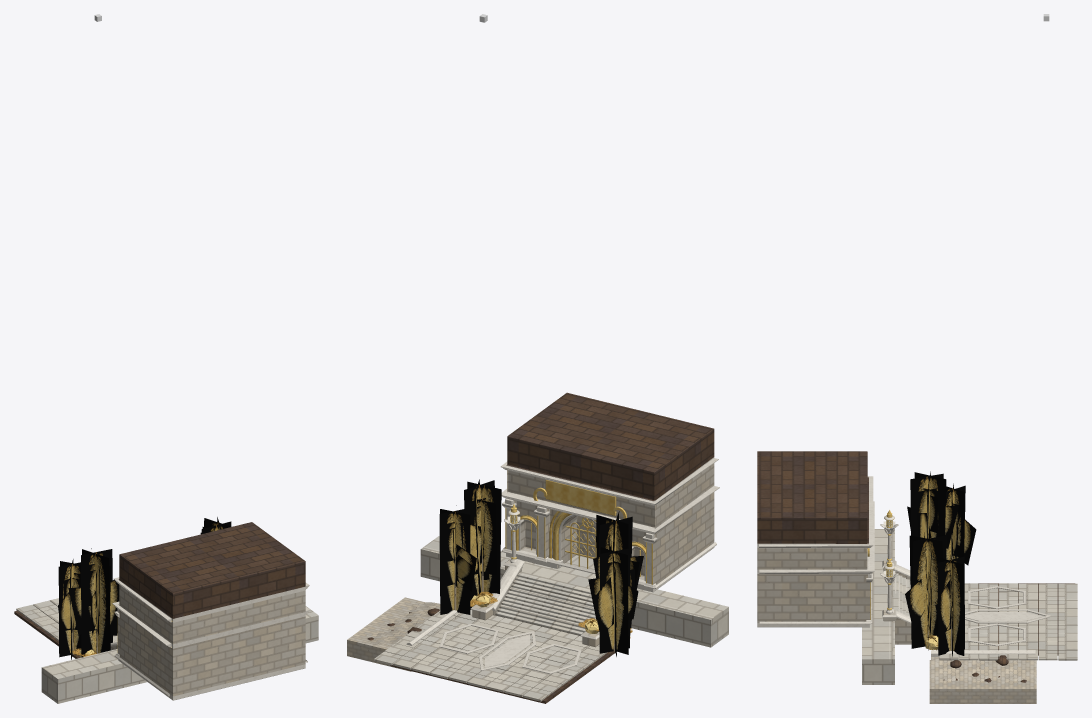
The model's file is TRECHO_AMOSTRA.fbx.
3 views of the same model, side by side, from view 1: azimuth 30°, elevation 25°; view 2: azimuth 150°, elevation 25°; view 3: azimuth 270°, elevation 25° (orthographic). The views are drawn at different scales.
Visible parts, largest first — view 1: TORRE_corpo, TERRACO, PLUMA0_folhas, PLUMA1_folhas, PISO_lajotas; view 2: TORRE_corpo, PISO_lajotas, TERRACO, ESCADA_degraus, PLUMA1_folhas, PLUMA2_folhas, PLUMA3_folhas, AGUA_caixa, PLUMA0_folhas, SIGN_placa, AGUA_leito, CORNIJA2 (+4 smaller); view 3: TORRE_corpo, PISO_lajotas, TERRACO, PLUMA2_folhas, PLUMA0_folhas, PLUMA3_folhas, AGUA_caixa, AGUA_leito, PLUMA1_folhas, CORNIJA1, CORNIJA2, PISO_painel_claro (+1 smaller).
Boxes of the visible parts, box(x1,y1,x2,y2) form: TORRE_corpo: box(117, 522, 305, 700); TERRACO: box(41, 606, 318, 703); PLUMA0_folhas: box(68, 548, 119, 657); PLUMA1_folhas: box(58, 559, 81, 659); PISO_lajotas: box(16, 598, 117, 656); TORRE_corpo: box(505, 392, 714, 592); PISO_lajotas: box(374, 609, 607, 701); TERRACO: box(420, 536, 728, 647); ESCADA_degraus: box(495, 571, 595, 635); PLUMA1_folhas: box(588, 545, 638, 656); PLUMA2_folhas: box(460, 479, 501, 609); PLUMA3_folhas: box(439, 505, 476, 614); AGUA_caixa: box(347, 597, 425, 671); PLUMA0_folhas: box(593, 511, 643, 631); SIGN_placa: box(545, 480, 616, 515); AGUA_leito: box(362, 602, 440, 645); CORNIJA2: box(500, 458, 718, 505); TORRE_corpo: box(757, 451, 871, 627); PISO_lajotas: box(939, 583, 1077, 660); TERRACO: box(862, 529, 894, 684); PLUMA2_folhas: box(905, 532, 946, 650); PLUMA0_folhas: box(907, 471, 958, 548); PLUMA3_folhas: box(935, 555, 964, 656); AGUA_caixa: box(929, 660, 1036, 703); AGUA_leito: box(931, 657, 1035, 682); PLUMA1_folhas: box(945, 483, 976, 565); CORNIJA1: box(759, 501, 874, 574); CORNIJA2: box(759, 476, 873, 548); PISO_painel_claro: box(965, 612, 1043, 621).
Size of the model in its own units: 56 by 125 by 58.15.
16 materials, 13 textured.
